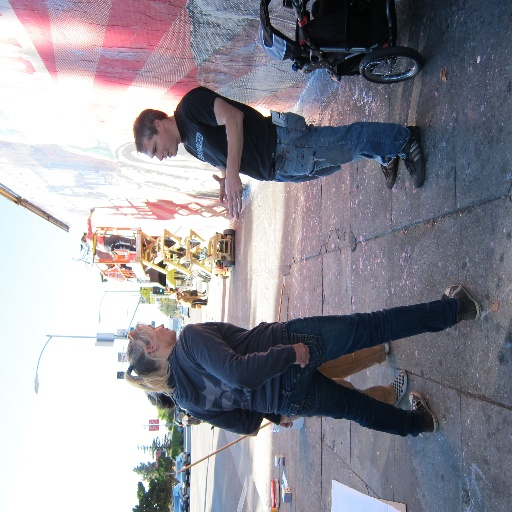hand: (208, 145, 249, 209), (211, 174, 227, 205), (294, 341, 311, 369), (278, 423, 292, 430)
